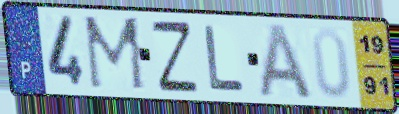0: (309, 25, 353, 102)
4: (45, 12, 91, 91)
A: (257, 22, 316, 101)
L: (201, 23, 248, 93)
M: (81, 14, 149, 94)
Z: (148, 19, 201, 93)
